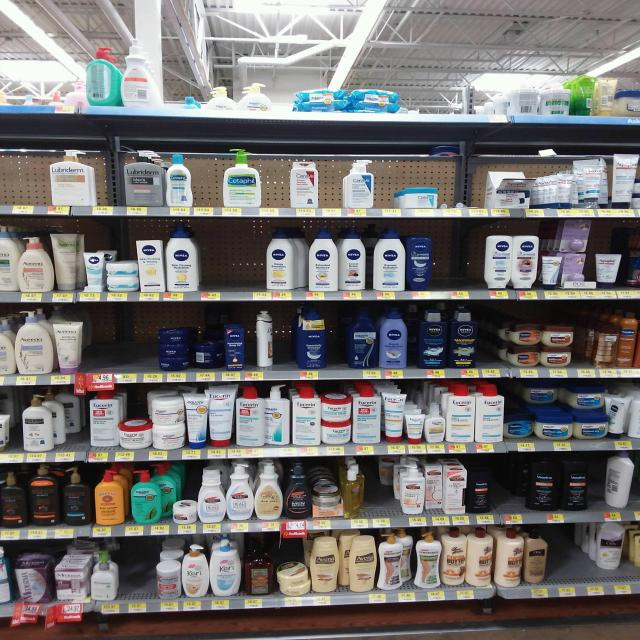empty_space: (90, 314, 148, 366), (205, 237, 260, 287), (436, 245, 480, 287), (0, 157, 40, 202), (120, 545, 152, 588), (555, 538, 585, 578)
